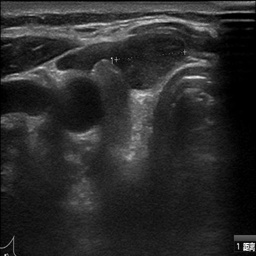mass: (118, 28, 187, 87)
